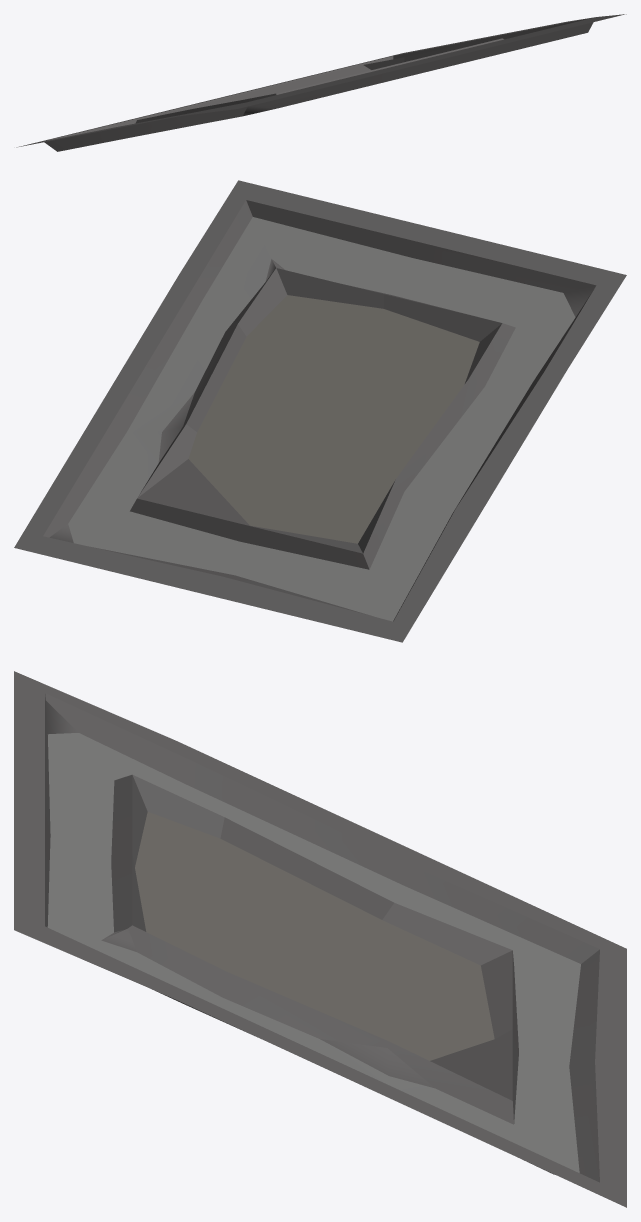
File: SM_Env_Ceiling_Stone_Stairs_01.FBX
3 views of the same model, one above another, from view 1: azimuth 30°, elevation 25°; view 2: azimuth 150°, elevation 25°; view 3: azimuth 270°, elevation 25° (orthographic). The views are drawn at different scales.
Parts seen in each view (by area): view 1: SM_Env_Ceiling_Stone_Stairs_01; view 2: SM_Env_Ceiling_Stone_Stairs_01; view 3: SM_Env_Ceiling_Stone_Stairs_01.
Part boxes in pixels (x1=…): SM_Env_Ceiling_Stone_Stairs_01: x1=16, y1=14, x2=626, y2=151; SM_Env_Ceiling_Stone_Stairs_01: x1=14, y1=180, x2=626, y2=642; SM_Env_Ceiling_Stone_Stairs_01: x1=14, y1=671, x2=626, y2=1207.
Size of what is drawn, in the model's own units: 500 by 500 by 250.
